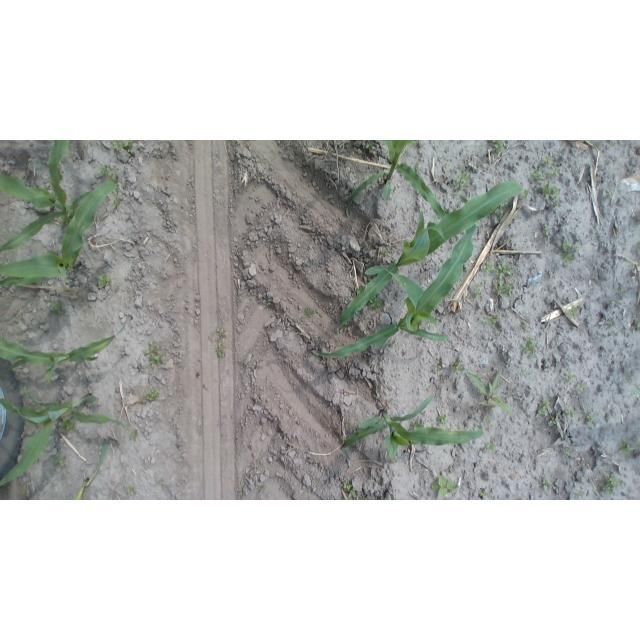Maize: (330, 173, 529, 337), (308, 253, 474, 362), (0, 386, 128, 495), (1, 182, 118, 289), (1, 140, 102, 252), (343, 391, 487, 462), (342, 143, 448, 229), (0, 317, 128, 385), (75, 434, 116, 499)
Weeds: (469, 369, 514, 425), (489, 261, 516, 298), (431, 474, 458, 498), (561, 241, 582, 268), (145, 342, 166, 368), (521, 336, 539, 360), (540, 183, 561, 202), (602, 472, 620, 494), (624, 373, 640, 396), (452, 170, 470, 190), (59, 417, 77, 436), (342, 478, 359, 498), (112, 140, 135, 154), (536, 398, 551, 419), (529, 168, 549, 183), (144, 386, 160, 403), (53, 455, 69, 472), (49, 302, 67, 317), (451, 361, 466, 378), (618, 439, 633, 455), (96, 275, 112, 290), (479, 260, 497, 273), (483, 440, 498, 455), (489, 141, 506, 154), (484, 314, 500, 327), (473, 282, 486, 298), (583, 409, 596, 425), (110, 193, 121, 211), (369, 297, 383, 310), (540, 476, 552, 491), (543, 156, 556, 169), (437, 413, 449, 427), (565, 305, 579, 317), (361, 141, 376, 152), (216, 342, 226, 358), (563, 371, 577, 382), (304, 307, 315, 319), (105, 173, 117, 184), (124, 484, 137, 494), (549, 416, 560, 427), (477, 488, 488, 499), (217, 329, 228, 340), (412, 420, 427, 428), (541, 226, 551, 238), (98, 164, 108, 176), (255, 484, 267, 494), (129, 428, 139, 440), (564, 409, 576, 419), (575, 382, 585, 394), (433, 362, 443, 373), (549, 165, 559, 176), (561, 447, 573, 456), (356, 283, 365, 295), (605, 189, 615, 199), (522, 321, 531, 332), (238, 488, 247, 498), (577, 490, 587, 499), (60, 218, 70, 227), (609, 141, 618, 150), (494, 206, 503, 215), (380, 248, 389, 257), (266, 299, 274, 309), (500, 199, 509, 207), (383, 493, 394, 499), (156, 479, 165, 486), (635, 316, 640, 328), (411, 440, 418, 448), (619, 287, 626, 295), (21, 489, 27, 496), (520, 369, 527, 375), (553, 204, 561, 209), (635, 241, 640, 248), (121, 182, 127, 187), (609, 322, 613, 327), (345, 422, 349, 427), (569, 210, 572, 214)
